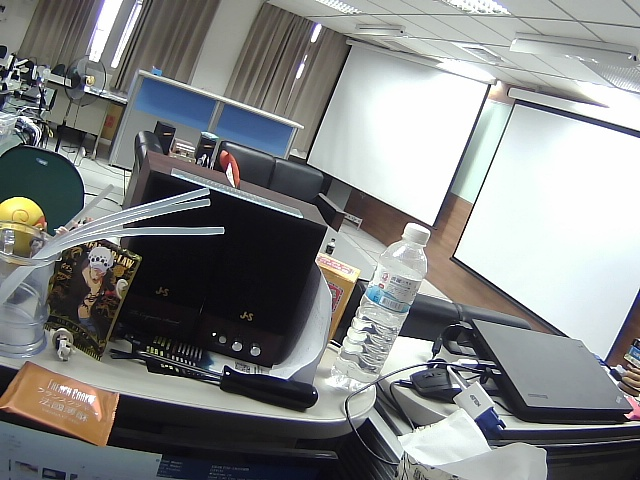frenchcookie: (1, 358, 137, 457)
